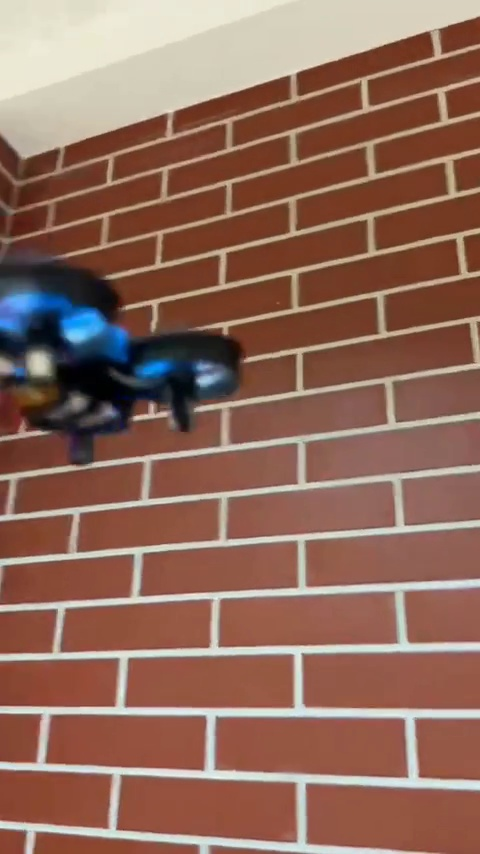drone: (0, 257, 248, 472)
